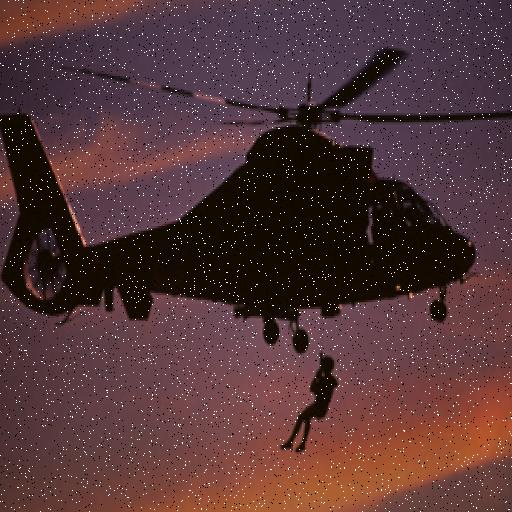helicopter: (1, 47, 484, 356)
